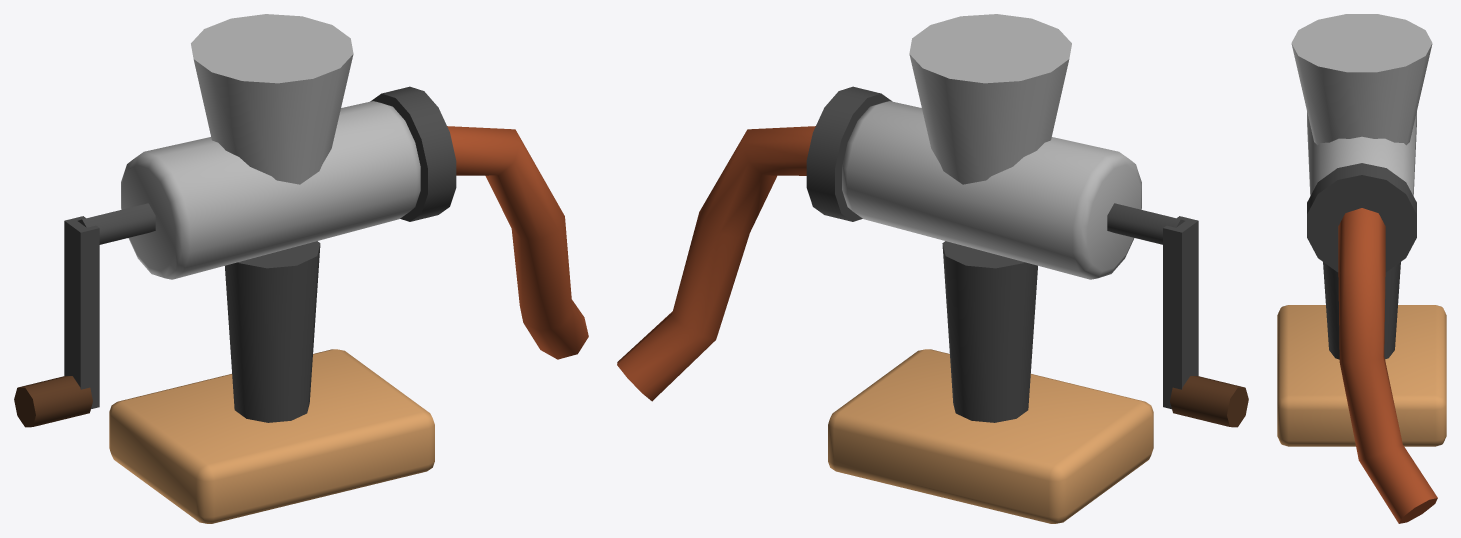
File: moedor_carne.glb
The picture shows the model from 3 angles, left to right: view 1: azimuth 30°, elevation 25°; view 2: azimuth 150°, elevation 25°; view 3: azimuth 270°, elevation 25°; orthographic projection. The views are drawn at different scales.
Parts seen in each view (by area): view 1: Moedor_Carne; view 2: Moedor_Carne; view 3: Moedor_Carne.
Boxes of the visible parts, x1,y1,x2,y2 form: Moedor_Carne: [14, 14, 588, 523]; Moedor_Carne: [617, 14, 1248, 523]; Moedor_Carne: [1277, 14, 1446, 523].
Bounding box in the file's own units: 0.6208 × 0.42 × 0.18.
